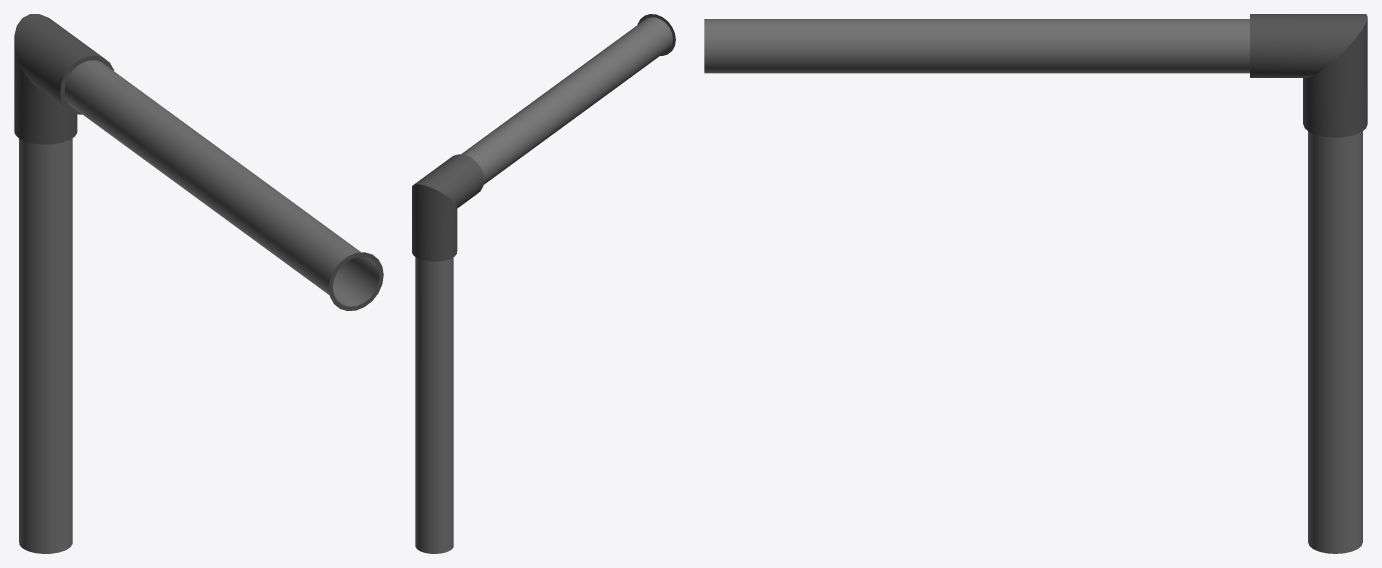
The model's file is LPole.fbx.
3 views of the same model, side by side, from view 1: azimuth 30°, elevation 25°; view 2: azimuth 150°, elevation 25°; view 3: azimuth 270°, elevation 25° (orthographic). The views are drawn at different scales.
Visible parts, largest first — view 1: WalkWay_LPole; view 2: WalkWay_LPole; view 3: WalkWay_LPole.
Part boxes in pixels (bbox=[...]): WalkWay_LPole: bbox=[14, 14, 383, 553]; WalkWay_LPole: bbox=[412, 14, 675, 553]; WalkWay_LPole: bbox=[704, 14, 1367, 553].
Size of the model in its own units: 12.95 by 116 by 133.
